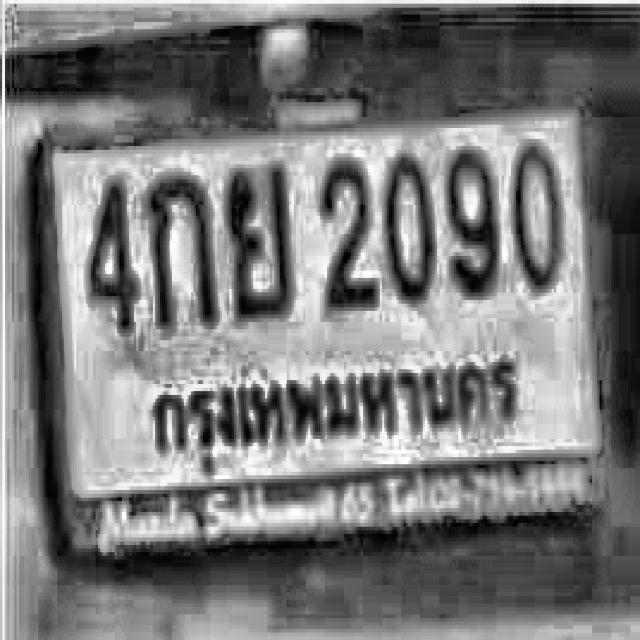license-plate: (21, 85, 617, 558)
